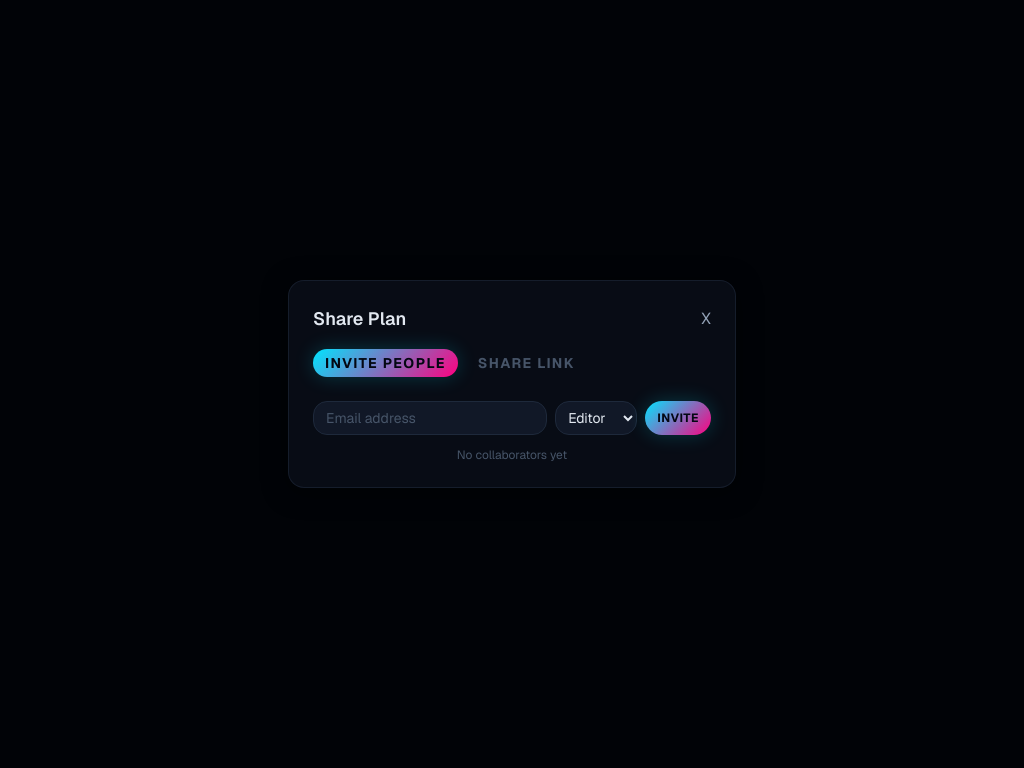
Test case: ShareDialog › shows Enable button on share link tab
Click the button "Share Link" at (526, 363), box x1=466 y1=349 x2=587 y2=377
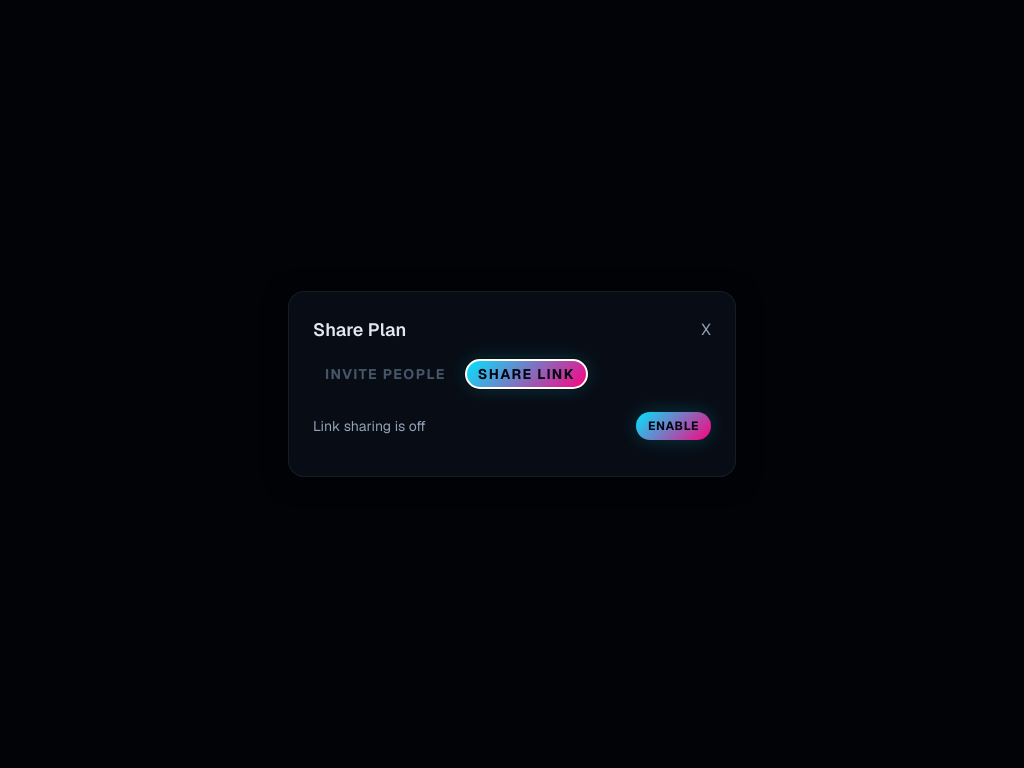
Check: the button "Enable" is shown, box x1=636 y1=412 x2=711 y2=440
Check: the text "Link sharing is off" is shown, box x1=313 y1=416 x2=426 y2=436
